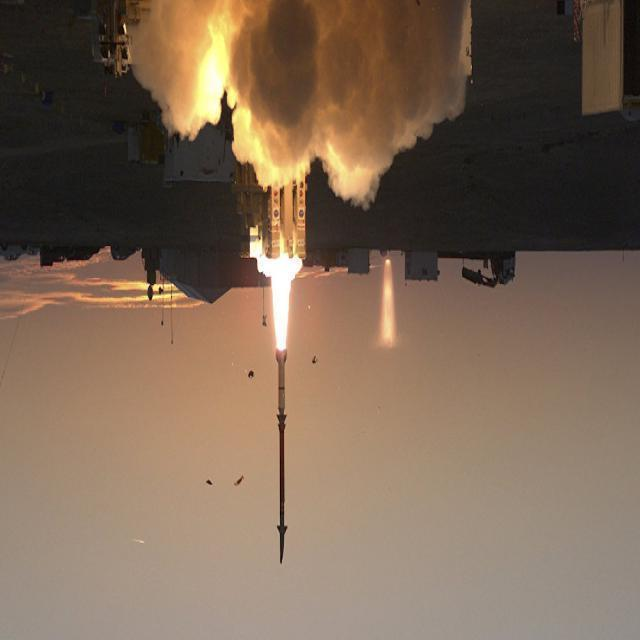missile: (274, 348, 288, 564)
